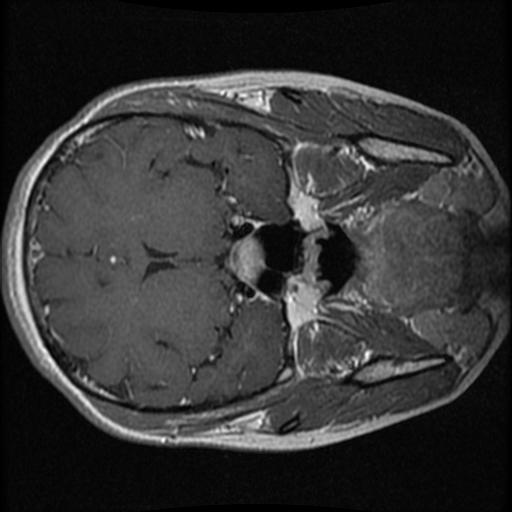pituitary tumour: (225, 236, 264, 286)
